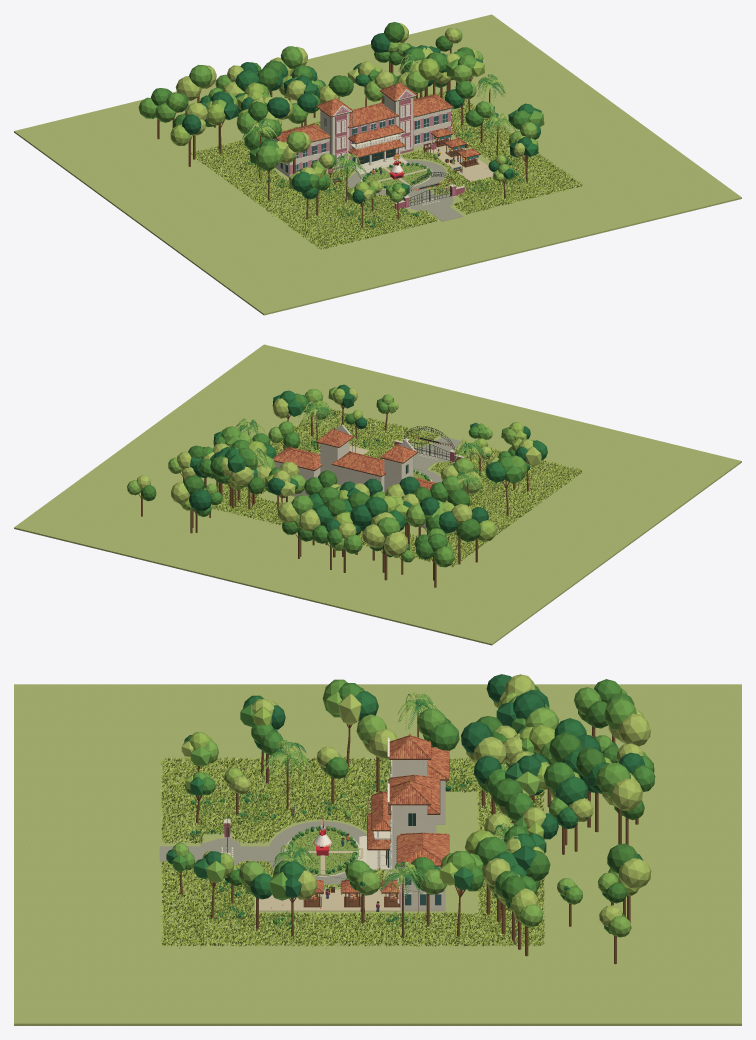
The model's file is cusat-mobile.glb.
The picture shows the model from 3 angles, top to bottom: view 1: azimuth 30°, elevation 25°; view 2: azimuth 150°, elevation 25°; view 3: azimuth 270°, elevation 25°; orthographic projection. The views are drawn at different scales.
Visible parts, largest first — view 1: DetailBatch_V2_Landscape_V2_D_earth, LivingMeadow_0, DetailBatch_V2_Landscape_V2_D_Leaf7, DetailBatch_V2_Landscape_V2_D_Leaf2, DetailBatch_V2_Landscape_V2_D_Leaf1, DetailBatch_V2_Landscape_V2_D_Leaf3, DetailBatch_V2_Landscape_V2_D_Leaf0, DetailBatch_V2_Landscape_V2_D_Leaf5, DetailBatch_V2_Landscape_V2_D_Leaf4, DetailBatch_V2_Landscape_V2_D_Leaf6, DetailBatch_V2_Architecture_V4_Weathered_cream, DetailBatch_V2_Landscape_V2_D_road (+17 smaller); view 2: DetailBatch_V2_Landscape_V2_D_earth, LivingMeadow_0, DetailBatch_V2_Landscape_V2_D_Leaf7, DetailBatch_V2_Landscape_V2_D_Leaf1, DetailBatch_V2_Landscape_V2_D_Leaf6, DetailBatch_V2_Landscape_V2_D_Leaf5, DetailBatch_V2_Landscape_V2_D_Leaf2, DetailBatch_V2_Landscape_V2_D_Leaf0, DetailBatch_V2_Landscape_V2_D_Leaf3, DetailBatch_V2_Landscape_V2_D_Leaf4, DetailBatch_V2_Landscape_V2_D_bark, DetailBatch_V2_Architecture_V4_Weathered_cream (+5 smaller); view 3: DetailBatch_V2_Landscape_V2_D_earth, LivingMeadow_0, DetailBatch_V2_Landscape_V2_D_Leaf7, DetailBatch_V2_Landscape_V2_D_Leaf1, DetailBatch_V2_Landscape_V2_D_Leaf2, DetailBatch_V2_Landscape_V2_D_Leaf0, DetailBatch_V2_Landscape_V2_D_Leaf3, DetailBatch_V2_Landscape_V2_D_Leaf5, DetailBatch_V2_Landscape_V2_D_Leaf6, DetailBatch_V2_Landscape_V2_D_Leaf4, DetailBatch_V2_Landscape_V2_D_bark, DetailBatch_V2_Architecture_V4_Weathered_cream (+13 smaller).
Part boxes in pixels (x1,y1,x2,y2): DetailBatch_V2_Landscape_V2_D_earth: (14,14,741,315); LivingMeadow_0: (191,89,582,249); DetailBatch_V2_Landscape_V2_D_Leaf7: (175,23,524,220); DetailBatch_V2_Landscape_V2_D_Leaf2: (138,46,544,223); DetailBatch_V2_Landscape_V2_D_Leaf1: (151,48,572,227); DetailBatch_V2_Landscape_V2_D_Leaf3: (205,28,538,225); DetailBatch_V2_Landscape_V2_D_Leaf0: (199,45,540,223); DetailBatch_V2_Landscape_V2_D_Leaf5: (182,33,541,226); DetailBatch_V2_Landscape_V2_D_Leaf4: (170,42,543,220); DetailBatch_V2_Landscape_V2_D_Leaf6: (163,22,508,164); DetailBatch_V2_Architecture_V4_Weathered_cream: (274,94,470,177); DetailBatch_V2_Landscape_V2_D_road: (347,160,462,221); DetailBatch_V2_Landscape_V2_D_earth: (14,344,741,645); LivingMeadow_0: (211,408,581,567); DetailBatch_V2_Landscape_V2_D_Leaf7: (136,388,541,557); DetailBatch_V2_Landscape_V2_D_Leaf1: (195,393,532,551); DetailBatch_V2_Landscape_V2_D_Leaf6: (140,413,480,559); DetailBatch_V2_Landscape_V2_D_Leaf5: (189,384,530,534); DetailBatch_V2_Landscape_V2_D_Leaf2: (204,394,577,567); DetailBatch_V2_Landscape_V2_D_Leaf0: (190,388,547,557); DetailBatch_V2_Landscape_V2_D_Leaf3: (127,387,515,550); DetailBatch_V2_Landscape_V2_D_Leaf4: (181,388,526,557); DetailBatch_V2_Landscape_V2_D_bark: (138,405,528,587); DetailBatch_V2_Architecture_V4_Weathered_cream: (274,441,447,528); DetailBatch_V2_Landscape_V2_D_earth: (14,684,741,1025); LivingMeadow_0: (160,756,545,946); DetailBatch_V2_Landscape_V2_D_Leaf7: (181,674,651,947); DetailBatch_V2_Landscape_V2_D_Leaf1: (172,679,655,946); DetailBatch_V2_Landscape_V2_D_Leaf2: (184,679,647,926); DetailBatch_V2_Landscape_V2_D_Leaf0: (190,691,617,930); DetailBatch_V2_Landscape_V2_D_Leaf3: (172,691,631,946); DetailBatch_V2_Landscape_V2_D_Leaf5: (166,674,644,929); DetailBatch_V2_Landscape_V2_D_Leaf6: (227,685,644,933); DetailBatch_V2_Landscape_V2_D_Leaf4: (170,692,638,948); DetailBatch_V2_Landscape_V2_D_bark: (180,713,638,964); DetailBatch_V2_Architecture_V4_Weathered_cream: (311,760,445,911).
Size of the model in its own units: 160 by 22.49 by 145.
56 materials, 21 textured.
